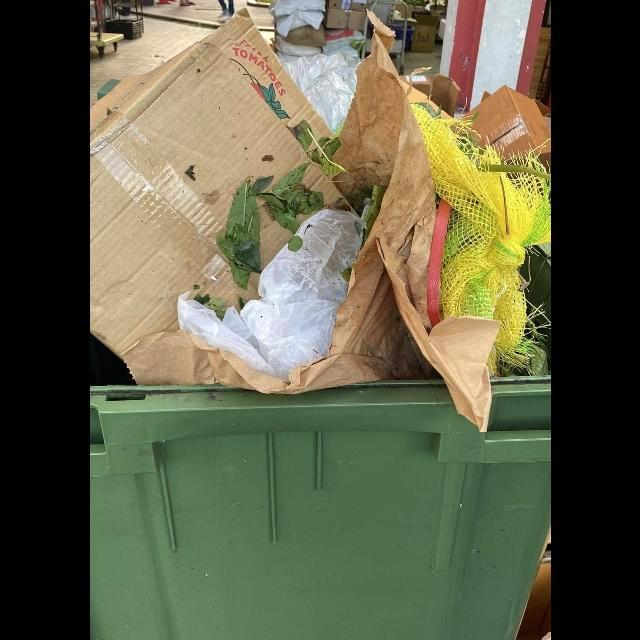cardboard: (89, 8, 345, 360), (459, 86, 551, 161), (432, 71, 461, 118)
paper: (184, 5, 504, 431)
plastic_bag: (172, 206, 364, 374), (278, 51, 355, 138)
